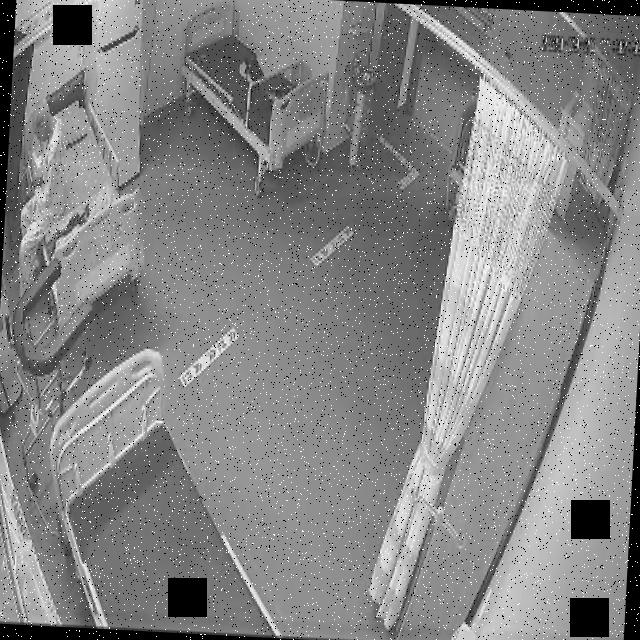bed: (38, 341, 292, 638), (13, 86, 152, 316), (179, 1, 333, 171)
patient: (10, 94, 71, 302)
sit: (10, 93, 71, 302)
walker: (5, 261, 96, 538)
